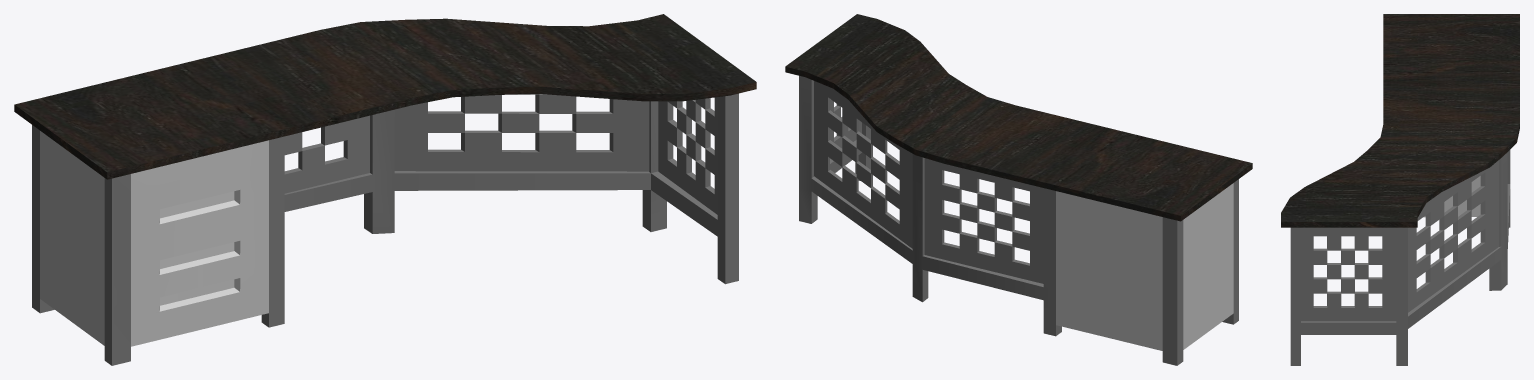
Rendered from teacher_Desk.fbx.
The picture shows the model from 3 angles, left to right: view 1: azimuth 30°, elevation 25°; view 2: azimuth 150°, elevation 25°; view 3: azimuth 270°, elevation 25°; orthographic projection. The views are drawn at different scales.
Parts seen in each view (by area): view 1: Mesh, Mesh (2); view 2: Mesh, Mesh (2); view 3: Mesh, Mesh (2).
Part boxes in pixels (x1,y1,x2,y2): Mesh: [14, 14, 756, 365]; Mesh (2): [284, 94, 717, 214]; Mesh: [785, 14, 1252, 365]; Mesh (2): [814, 81, 1043, 283]; Mesh: [1281, 14, 1519, 365]; Mesh (2): [1301, 160, 1498, 321].
Size of the model in its own units: 5060 by 1676 by 2454.
